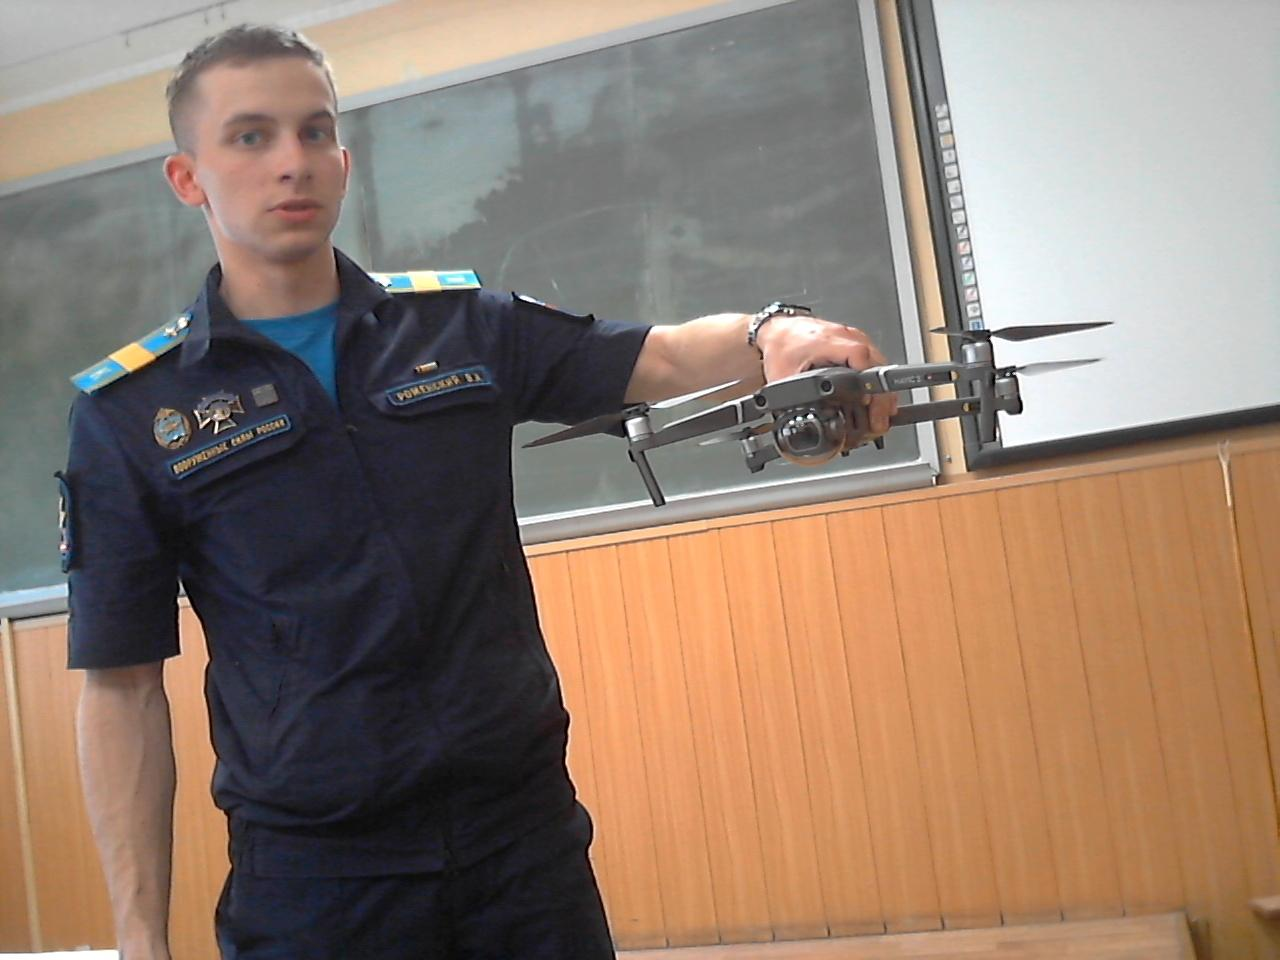drone: (486, 302, 1121, 501)
